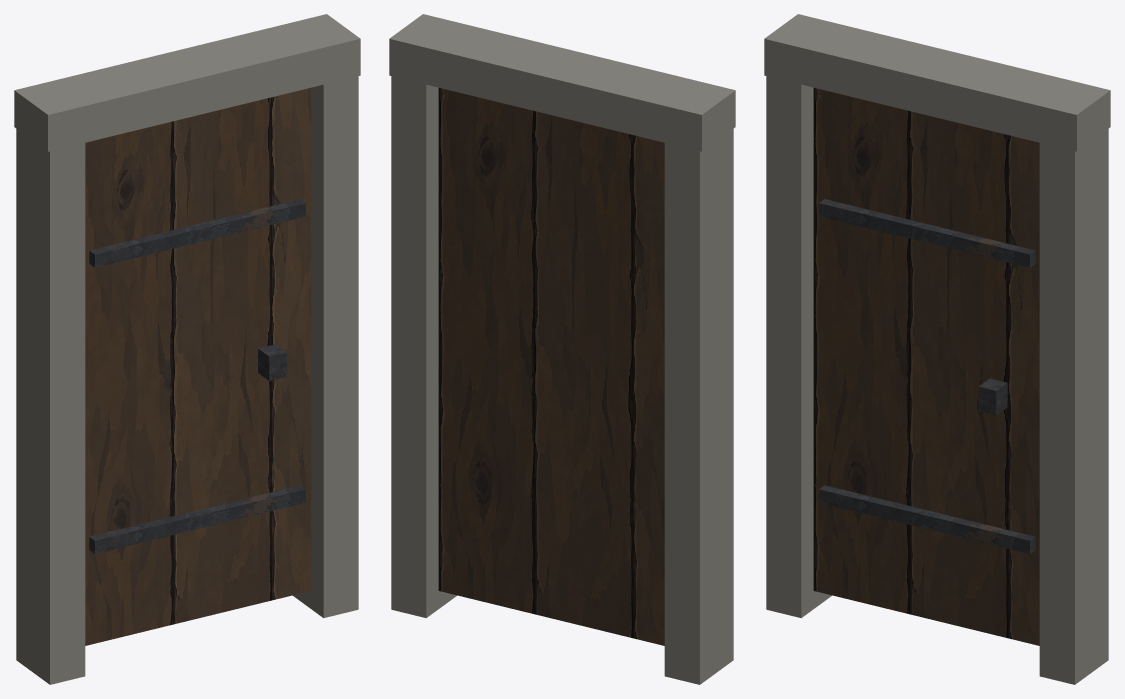
The model's file is door_rect_oak.glb.
3 views of the same model, side by side, from view 1: azimuth 30°, elevation 25°; view 2: azimuth 150°, elevation 25°; view 3: azimuth 330°, elevation 25° (orthographic).
Visible parts, largest first — view 1: door_rect_oak; view 2: door_rect_oak; view 3: door_rect_oak.
Boxes of the visible parts, x1=… form: door_rect_oak: x1=14, y1=14, x2=360, y2=684; door_rect_oak: x1=389, y1=14, x2=735, y2=684; door_rect_oak: x1=764, y1=14, x2=1110, y2=684.
Size of the model in its own units: 1.6 by 2.79 by 0.33.
3 materials, 2 textured.
